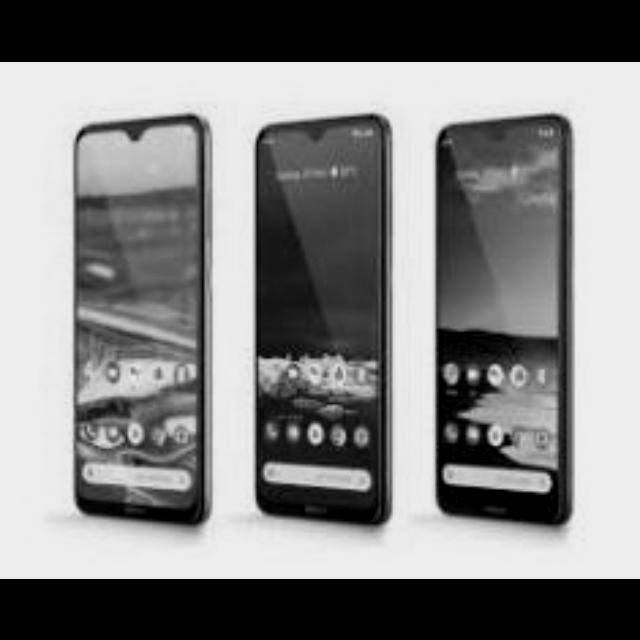fake: (252, 111, 394, 531), (437, 107, 575, 523), (72, 115, 206, 532)
